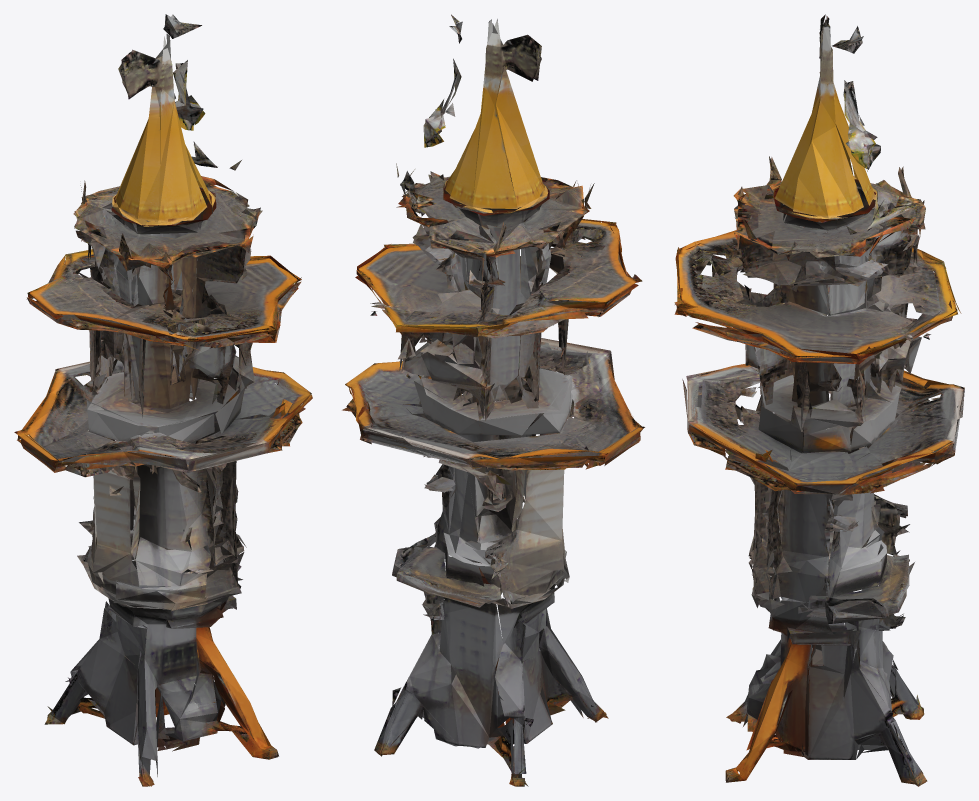
The model's file is decoration_spire_t1.fbx.
3 renders of one model, left to right at view 1: azimuth 30°, elevation 25°; view 2: azimuth 150°, elevation 25°; view 3: azimuth 270°, elevation 25°, orthographic. The views are drawn at different scales.
Visible parts, largest first — view 1: decoration_spire_t1; view 2: decoration_spire_t1; view 3: decoration_spire_t1.
Part boxes in pixels (x1=…): decoration_spire_t1: x1=14, y1=14, x2=312, y2=786; decoration_spire_t1: x1=342, y1=14, x2=644, y2=786; decoration_spire_t1: x1=674, y1=14, x2=964, y2=786.
Bounding box in the file's own units: 1.37 × 3.51 × 1.26.
1 material, 1 textured.
